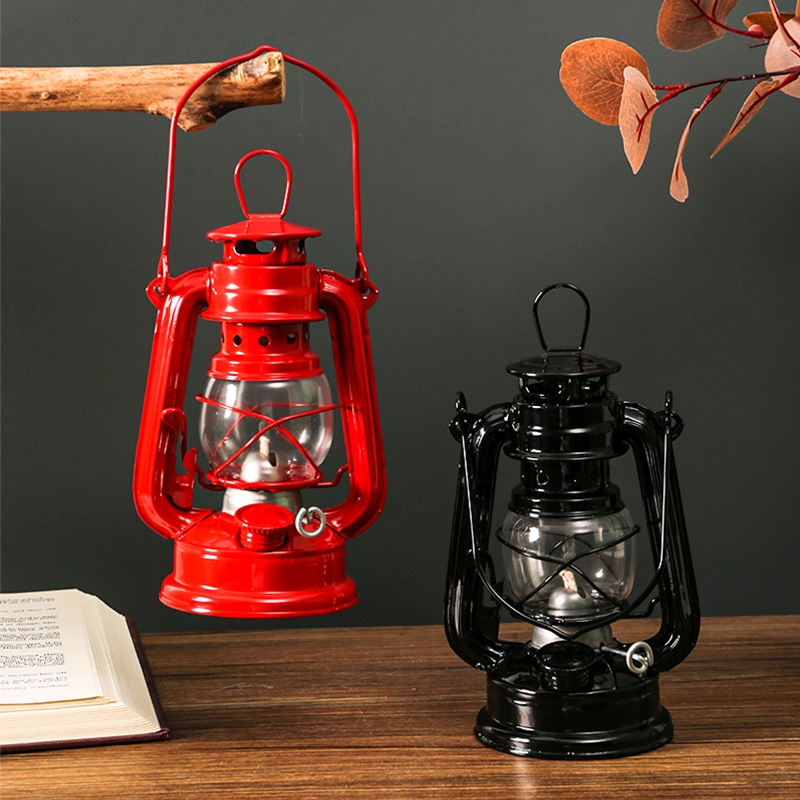Open-Flame-Hazard: (438, 271, 708, 769)
